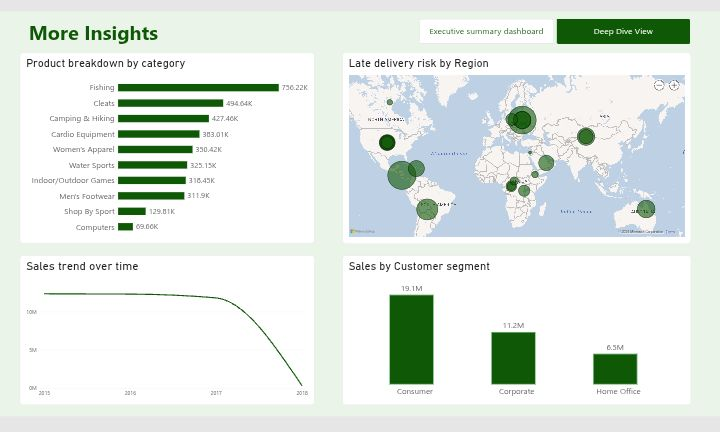

This screenshot's page, from the dashboard's own definition file:
{"tool":"powerbi","page":{"name":"Deep Dive View ","canvas":[1920,1080],"ordinal":1},"visuals":[{"type":"lineChart","title":"Sales trend over time","fields":{"Category":["Date.Year"],"Y":["Sum(FactSales.Sales)"]},"box":[52.4,650.7,785.3,398.9],"z":0},{"type":"clusteredBarChart","title":"Product breakdown by category ","fields":{"Category":["DimProduct.Category Name"],"Y":["Sum(FactSales.Order Profit Per Order)"]},"box":[52.4,109.7,785.3,508.6],"z":1000},{"type":"map","title":"Late delivery risk by Region","fields":{"Category":["DimLocation.Order Region"],"Size":["Sum(FactSales.Late Delivery Risk)"]},"box":[912.4,109.7,929.9,508.6],"z":2000},{"type":"columnChart","title":"Sales by Customer segment","fields":{"Category":["DimCustomer.Customer Segment"],"Y":["Sum(FactSales.Sales)"]},"box":[912.4,650.7,929.9,398.9],"z":3000},{"type":"textbox","box":[77.3,19.9,369,89.7],"z":4000},{"type":"pageNavigator","box":[1119.3,19.9,723,67.3],"z":4001}]}

Visuals, with their boxes on the page's 1920x1080 design canvas (x1, y1, x2, y2). These are canvas units, not pixel positions in the 720x432 screenshot, which may show the page scaled, cropped or inside an application window:
"Sales trend over time" lineChart: box(52, 651, 838, 1050)
"Product breakdown by category " clusteredBarChart: box(52, 110, 838, 618)
"Late delivery risk by Region" map: box(912, 110, 1842, 618)
"Sales by Customer segment" columnChart: box(912, 651, 1842, 1050)
textbox: box(77, 20, 446, 110)
pageNavigator: box(1119, 20, 1842, 87)
